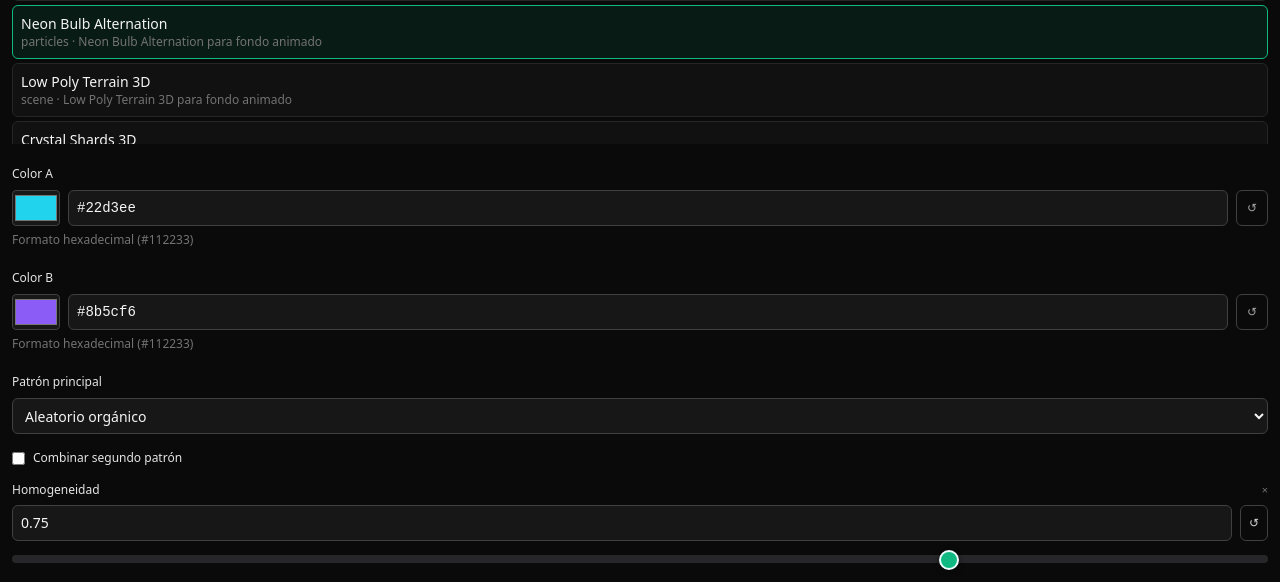
Test: integrated inspector tabs › expone controles de bombilla solo al seleccionar N-B01 y actualiza la prop real
This screenshot has width=1280, height=582.
(page scrolled)
Click the option "Neon Bulb Alternation" at (94,24), box [12, 5, 1268, 59]
(page scrolled)
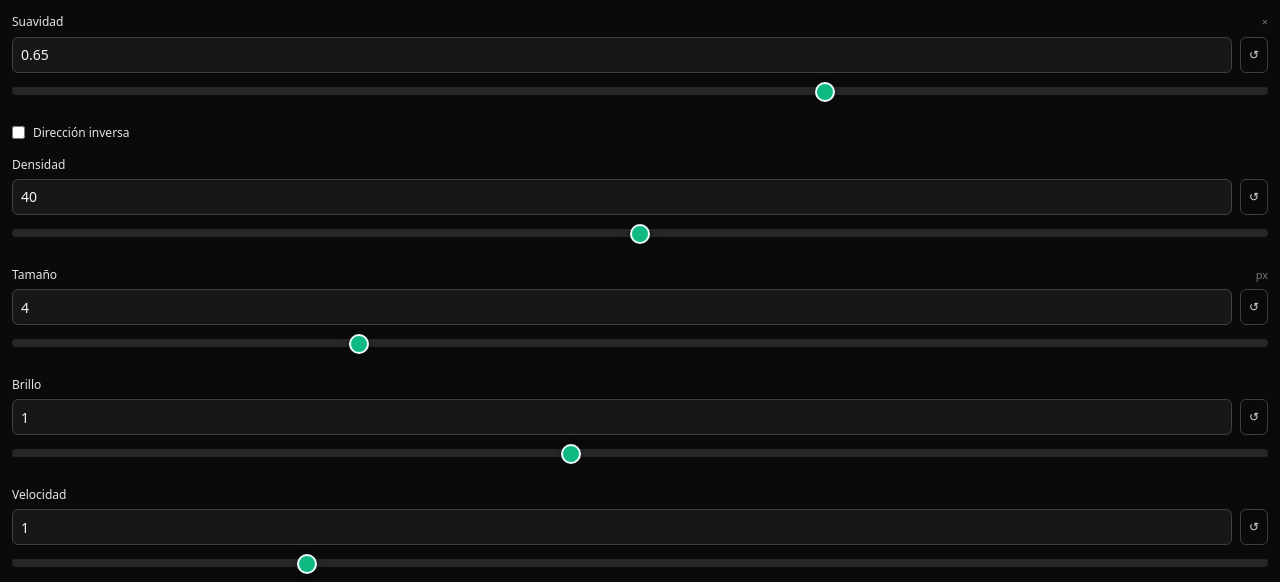
Set the slider named "Densidad deslizador" to "55" at (950,232), box [12, 220, 1268, 244]
(page scrolled)
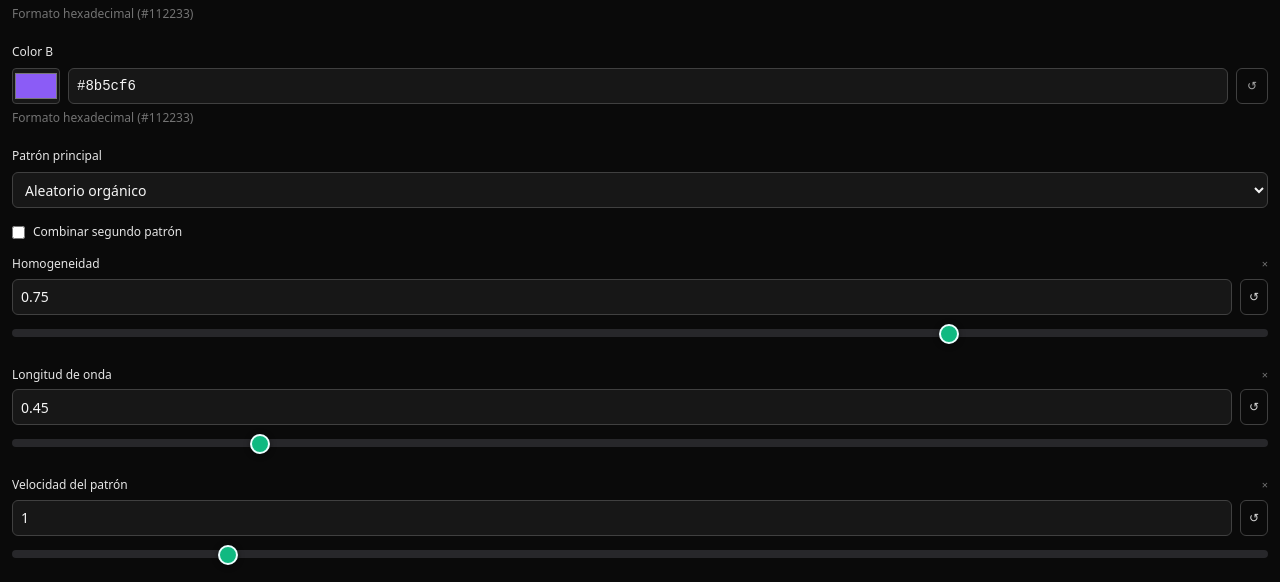
Expected: the dropdown labelled "Patrón principal" is shown, [12, 172, 1268, 208]
Expected: the field labelled "Patrón secundario" is not shown
Click the checkbox labelled "Combinar segundo patrón" at (18,232), box [12, 226, 25, 238]
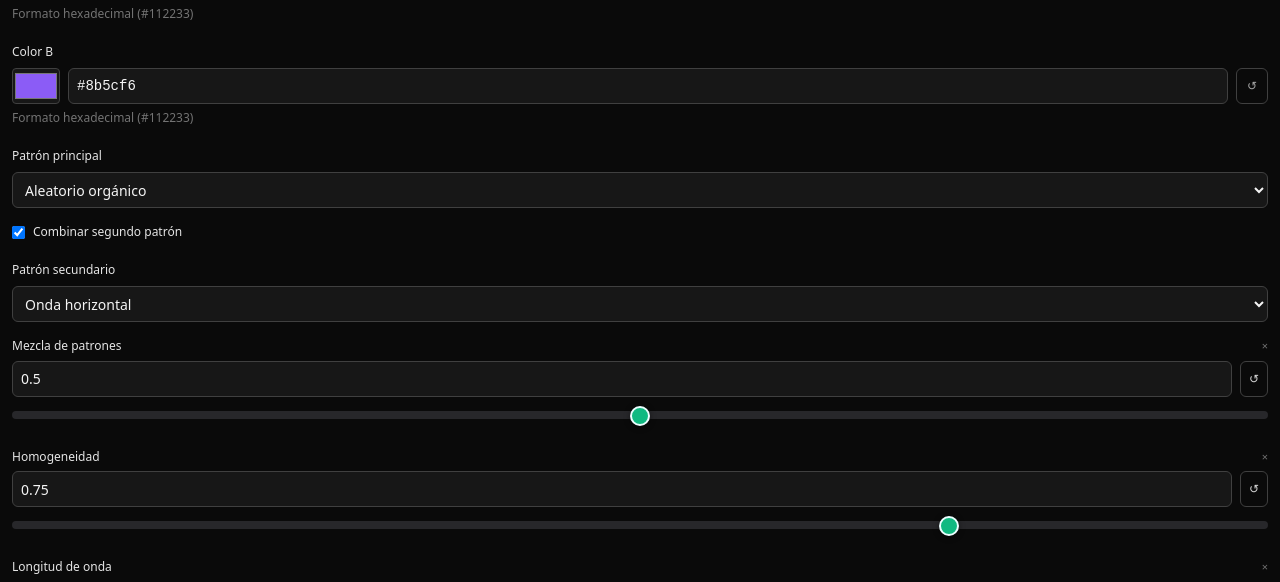
Expected: the dropdown labelled "Patrón secundario" is shown, [12, 286, 1268, 322]
Expected: the slider named "Mezcla de patrones deslizador" is shown
Set the slider named "Mezcla de patrones deslizador" to "0.8" at (1012,414), box [12, 402, 1268, 426]
Select "Onda horizontal" in the dropdown labelled "Patrón principal" at (640,190), box [12, 172, 1268, 208]
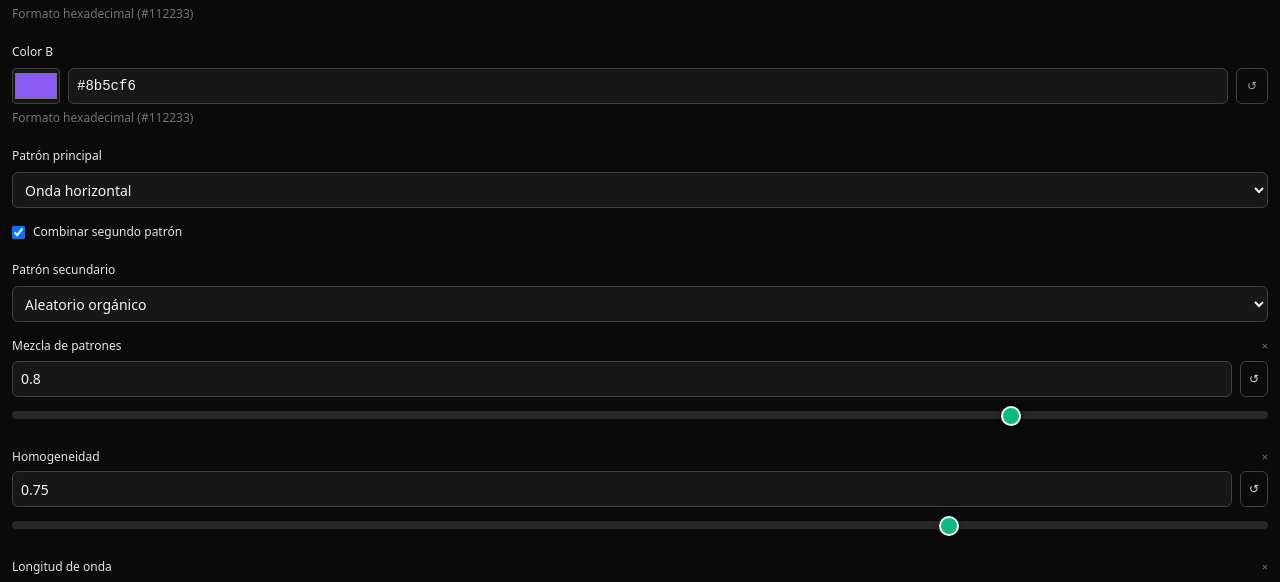
Select "Barrido angular" in the dropdown labelled "Patrón principal" at (640,190), box [12, 172, 1268, 208]
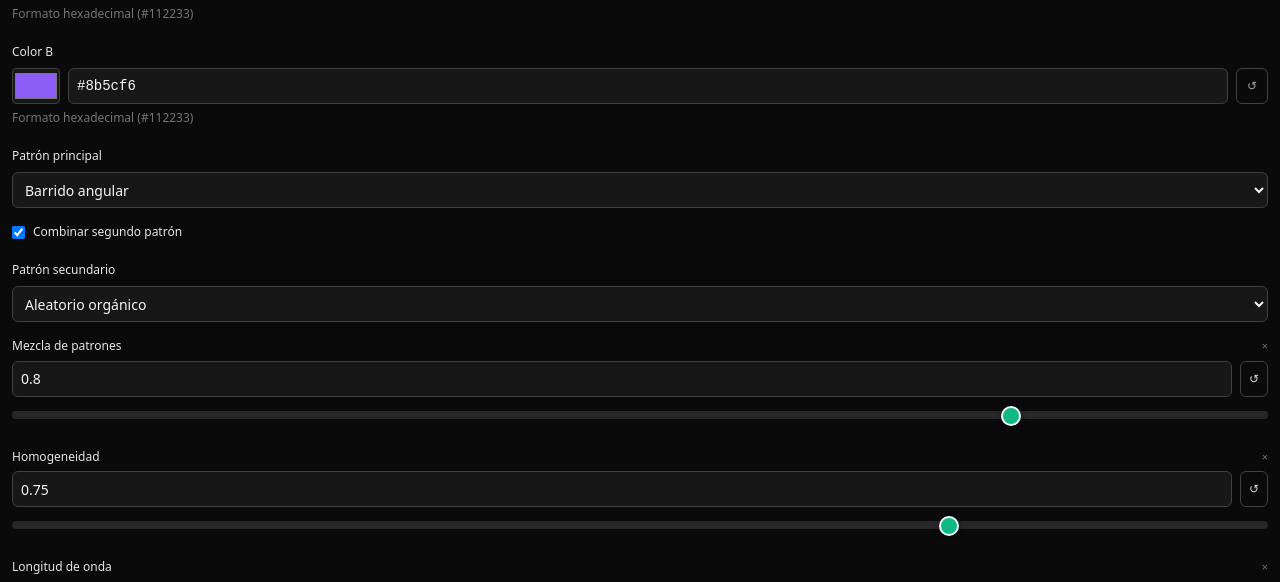
Select "Radial" in the dropdown labelled "Patrón principal" at (640,190), box [12, 172, 1268, 208]
(page scrolled)
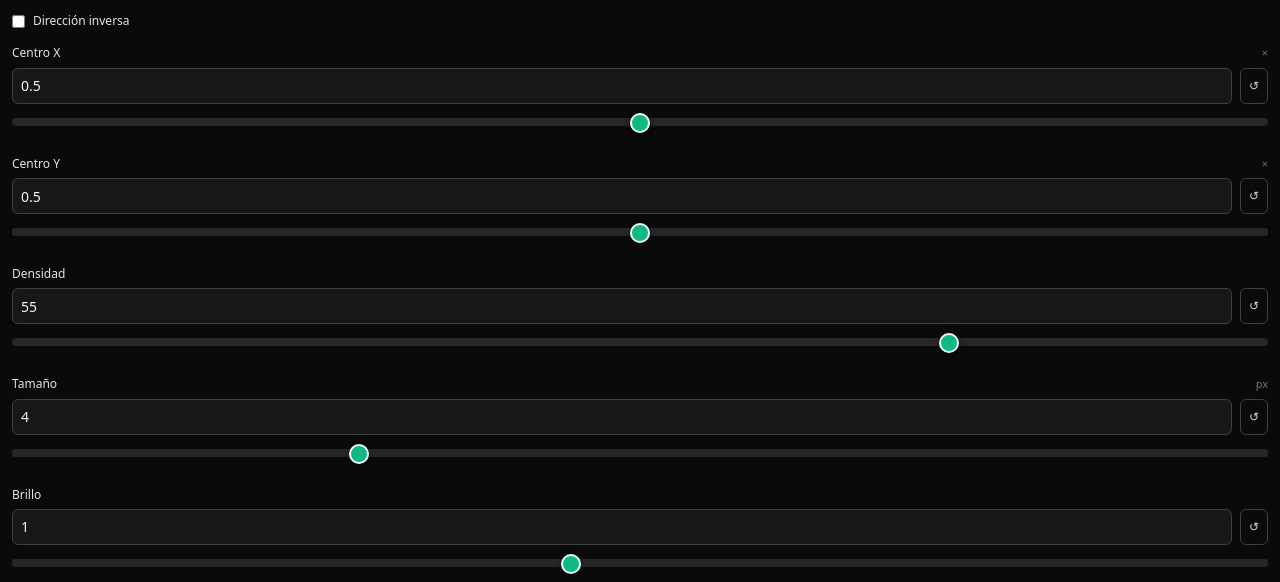
Expected: the slider named "Centro X deslizador" is shown, [12, 110, 1268, 134]
Expected: the slider named "Centro Y deslizador" is shown, [12, 220, 1268, 244]
